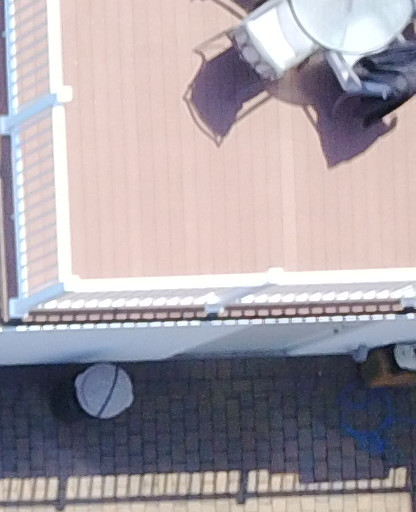trash bin: (60, 349, 162, 434)
